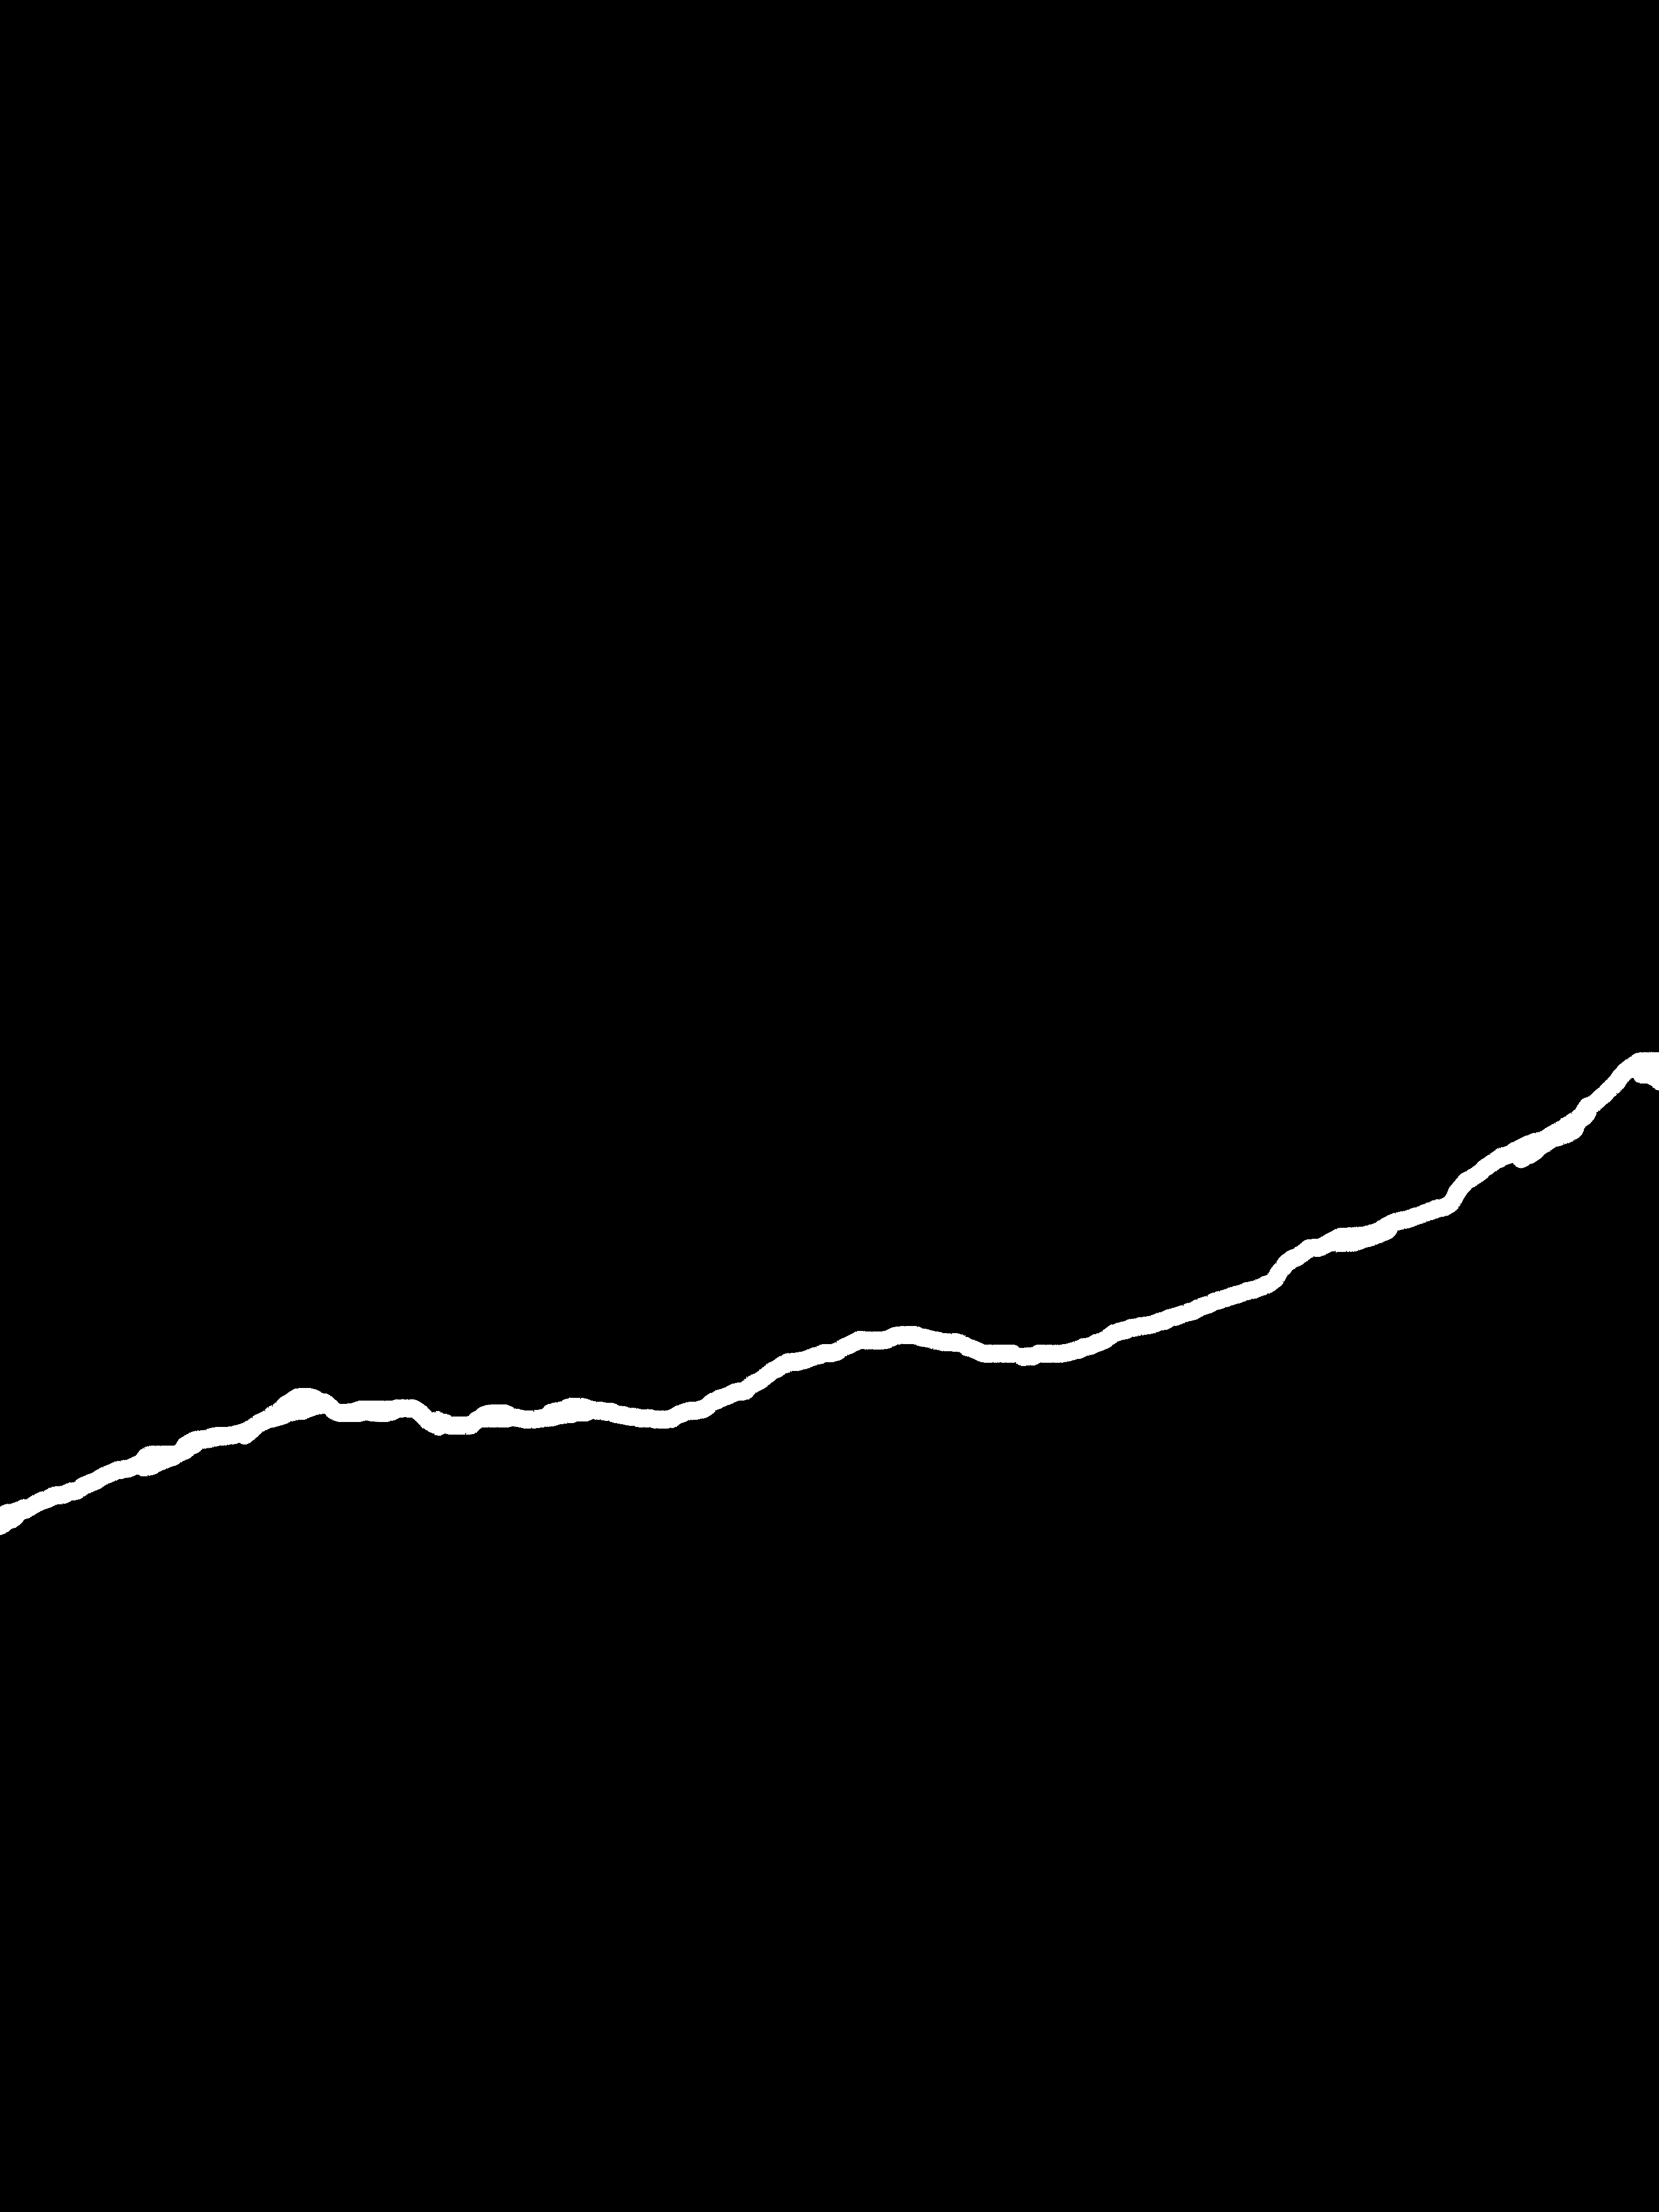Crack: (0, 1008, 1659, 1580)
